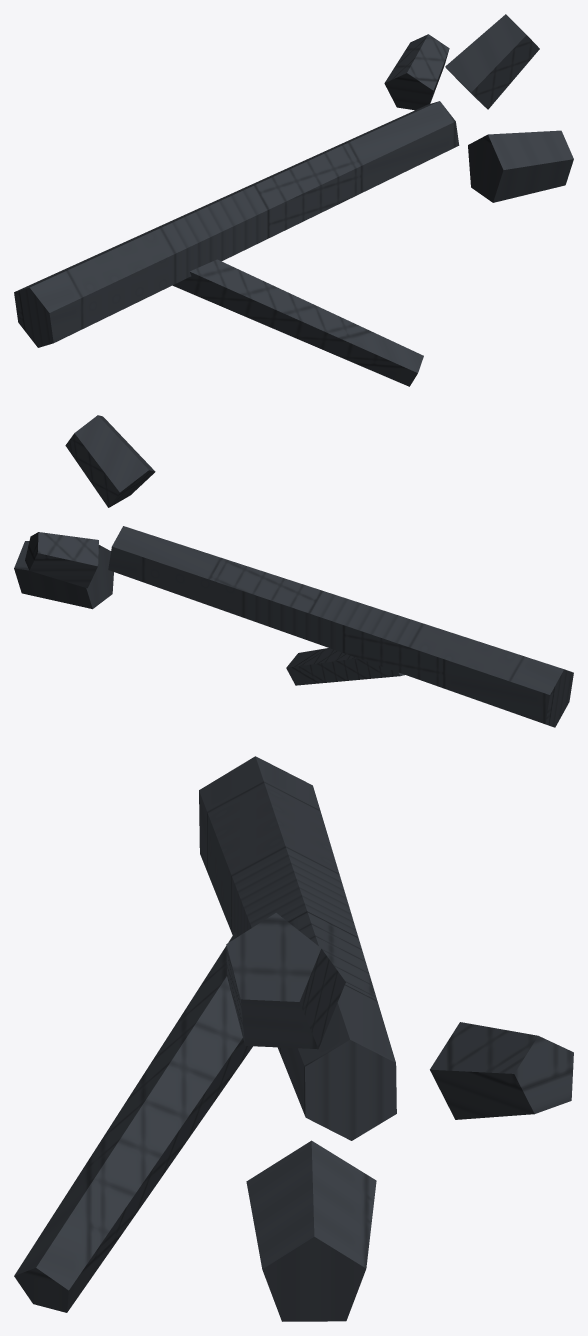
The model's file is frag_strut_shard.glb.
3 views of the same model, one above another, from view 1: azimuth 30°, elevation 25°; view 2: azimuth 150°, elevation 25°; view 3: azimuth 270°, elevation 25° (orthographic). The views are drawn at different scales.
Parts seen in each view (by area): view 1: strutMain, strutSide, strutFray_rib0, strutFray_rib2, strutFray_rib1; view 2: strutMain, strutFray_rib2, strutFray_rib1, strutFray_rib0, strutSide; view 3: strutMain, strutSide, strutFray_rib0, strutFray_rib2, strutFray_rib1.
Part boxes in pixels (<box>): strutMain: <box>14,101,459,347</box>; strutSide: <box>172,259,423,386</box>; strutFray_rib0: <box>468,130,573,202</box>; strutFray_rib2: <box>445,14,539,109</box>; strutFray_rib1: <box>384,34,449,110</box>; strutMain: <box>108,526,573,727</box>; strutFray_rib2: <box>65,415,155,507</box>; strutFray_rib1: <box>25,532,98,588</box>; strutFray_rib0: <box>14,541,113,609</box>; strutSide: <box>286,648,404,685</box>; strutMain: <box>199,756,396,1140</box>; strutSide: <box>14,932,252,1312</box>; strutFray_rib0: <box>246,1140,376,1321</box>; strutFray_rib2: <box>226,913,345,1049</box>; strutFray_rib1: <box>430,1022,573,1119</box>.
Bounding box in the file's own units: 11 × 5.49 × 5.17.
1 material, 1 textured.
